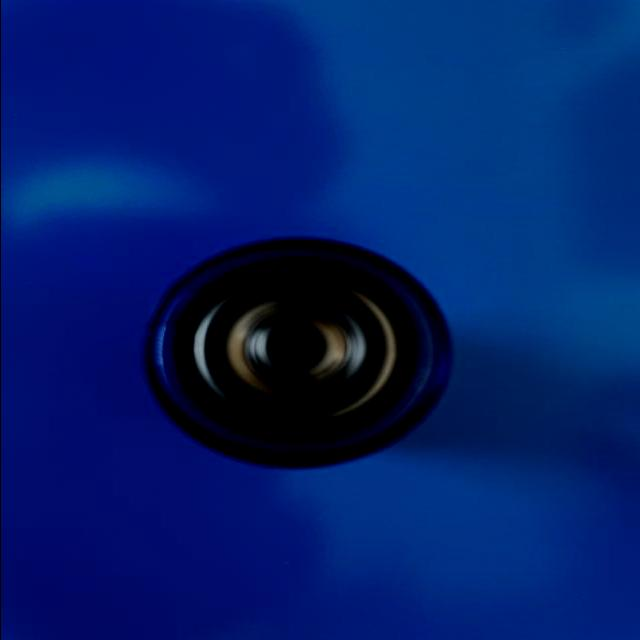AA: (136, 234, 454, 476)
